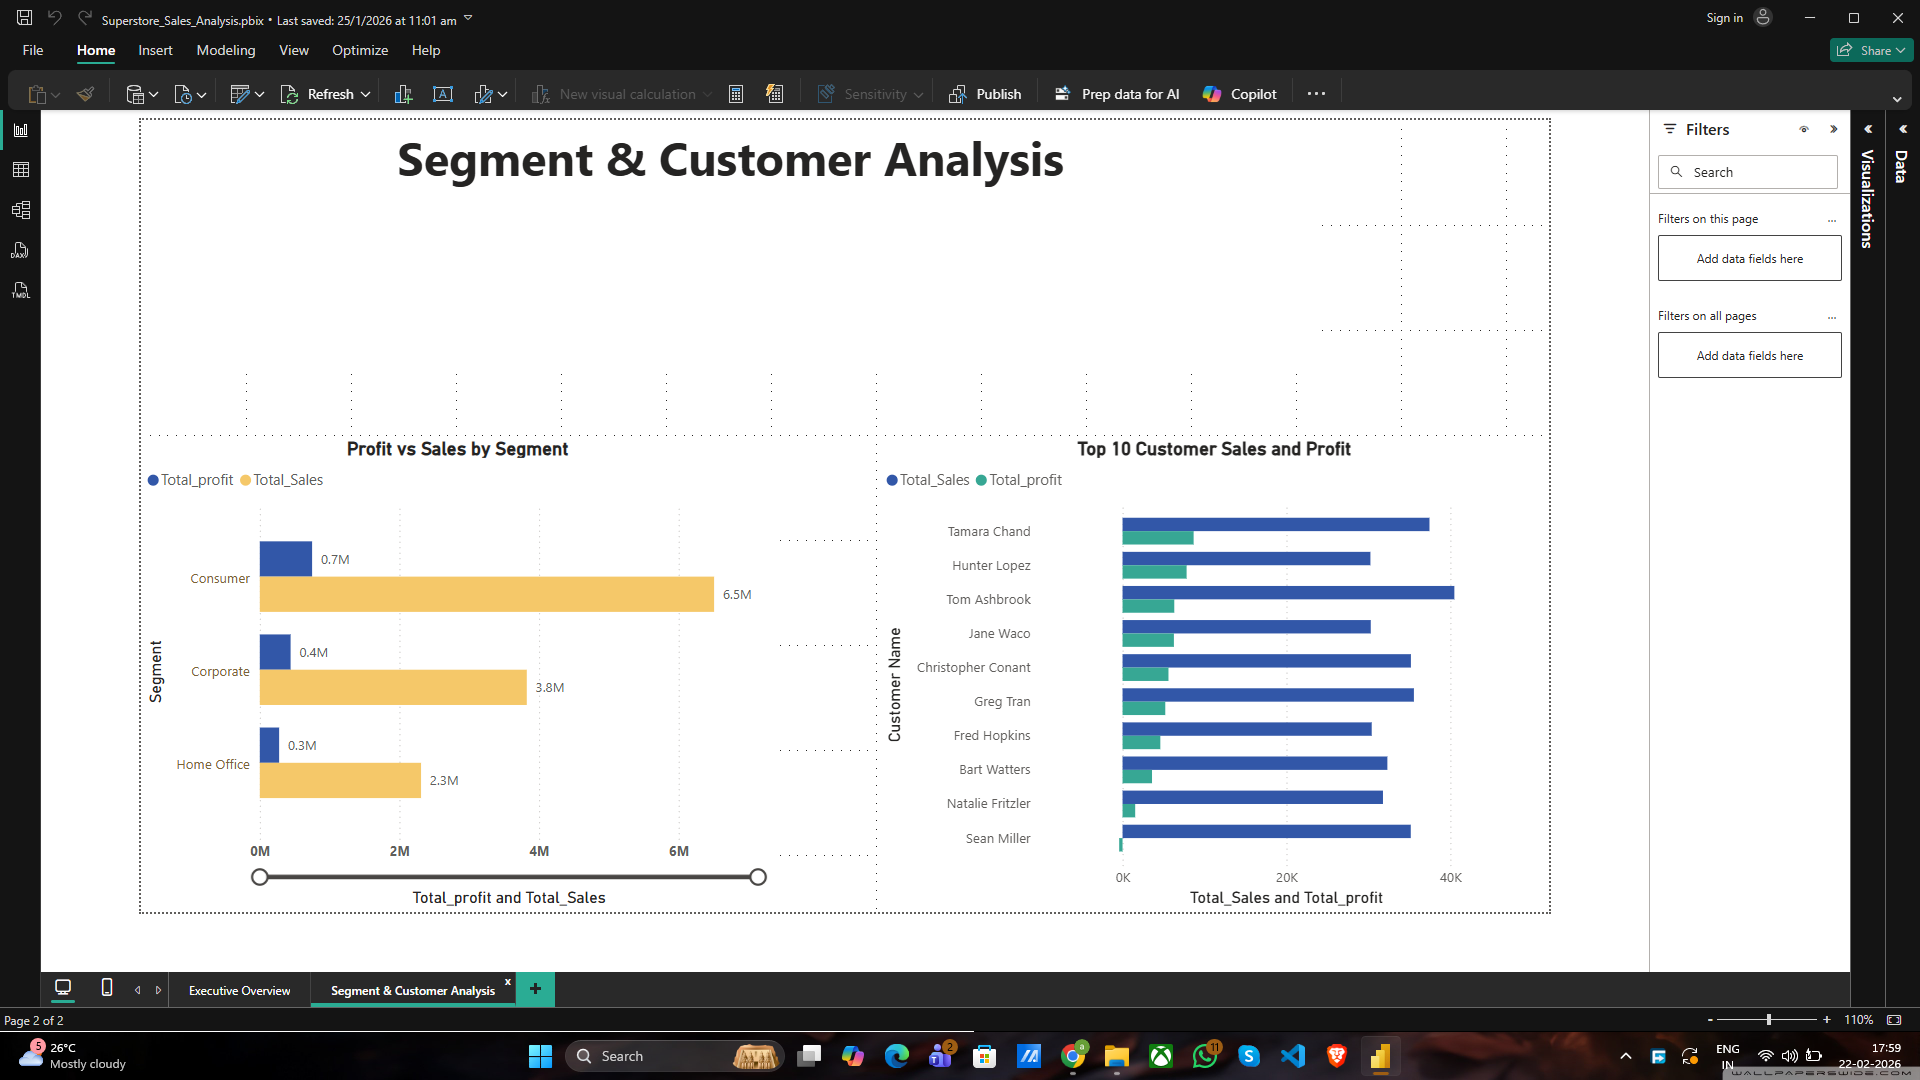

Layout of this report page (visuals, bound fields, positions):
{"tool":"powerbi","page":{"name":"Segment & Customer Analysis","canvas":[1280,720],"ordinal":1},"visuals":[{"type":"clusteredBarChart","title":"Profit vs Sales by Segment","fields":{"Category":["Global Superstore.Segment"],"Y":["Global Superstore.Total_profit","Global Superstore.Total_Sales"]},"box":[0,288,576,432],"z":0},{"type":"clusteredBarChart","title":"Top 10 Customer Sales and Profit","fields":{"Category":["Global Superstore.Customer Name"],"Y":["Global Superstore.Total_Sales","Global Superstore.Total_profit"]},"box":[672,288,608,432],"z":1000},{"type":"textbox","box":[0,0,1072,224],"z":1001}]}

Visuals, with their boxes on the page's 1280x720 design canvas (x1, y1, x2, y2). These are canvas units, not pixel positions in the 1920x1080 screenshot, which may show the page scaled, cropped or inside an application window:
"Profit vs Sales by Segment" clusteredBarChart: bbox=[0, 288, 576, 720]
"Top 10 Customer Sales and Profit" clusteredBarChart: bbox=[672, 288, 1280, 720]
textbox: bbox=[0, 0, 1072, 224]
